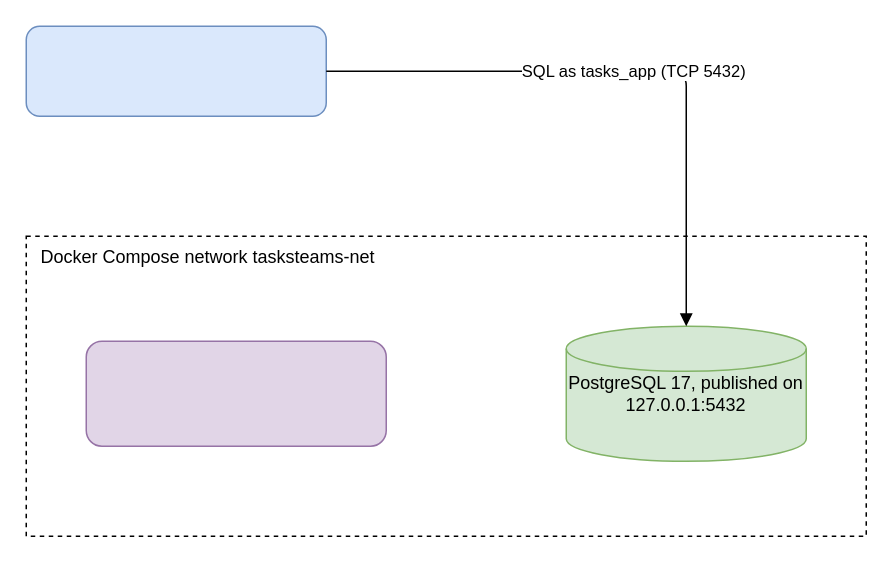
Some shapes in this 893 by 563 pixel diagram are drawn without their labels. The centre of each missing label's shape, as x and y in pixels:
Backend API on port 8000: (175,70)
TODO name the service and its published port: (235,393)
